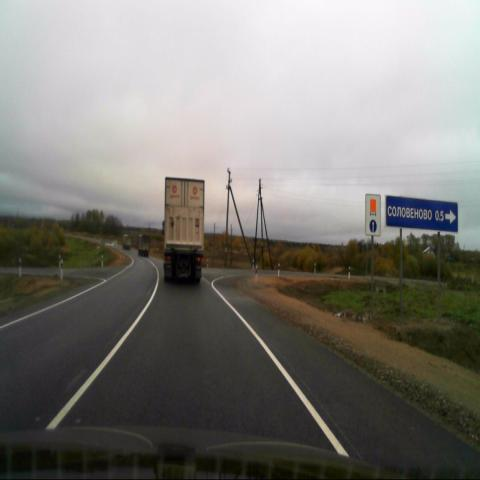4_8_2: (365, 193, 382, 236)
